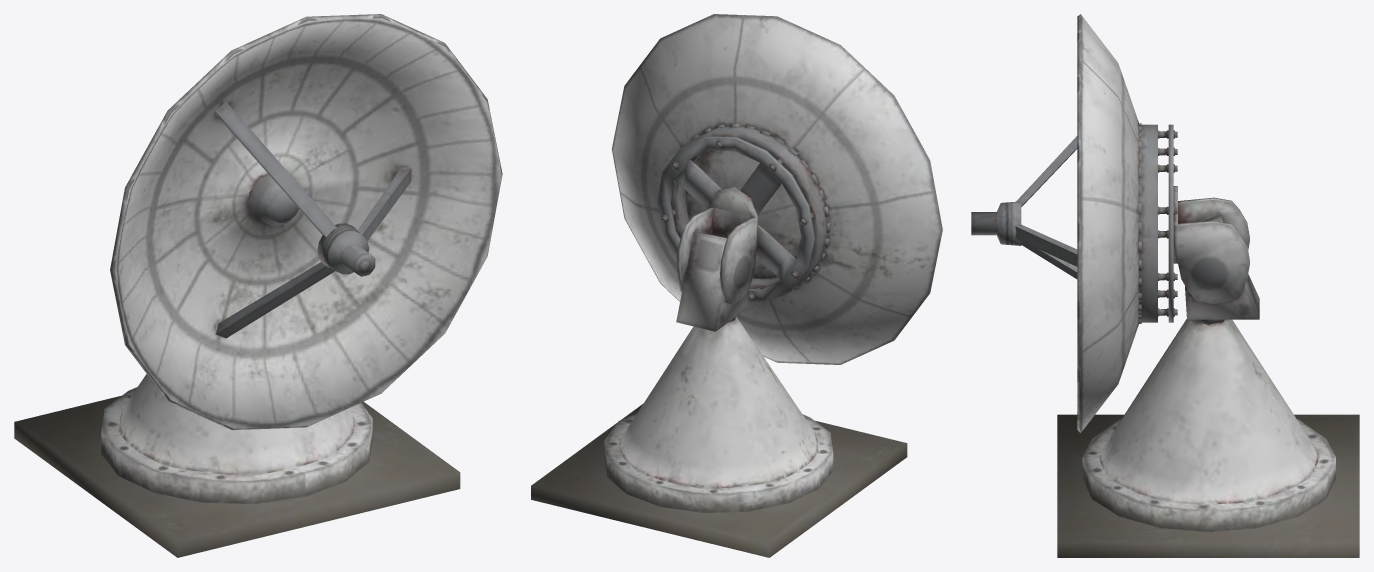
File: radar-dish.glb
The picture shows the model from 3 angles, left to right: view 1: azimuth 30°, elevation 25°; view 2: azimuth 150°, elevation 25°; view 3: azimuth 270°, elevation 25°; orthographic projection. The views are drawn at different scales.
Visible parts, largest first — view 1: Radar; view 2: Radar; view 3: Radar.
Boxes of the visible parts, x1=… form: Radar: x1=14, y1=14, x2=502, y2=557; Radar: x1=531, y1=14, x2=942, y2=557; Radar: x1=971, y1=14, x2=1359, y2=557.
Size of the model in its own units: 1.65 by 2 by 1.53.
Materials: 1 (1 with a texture image).
